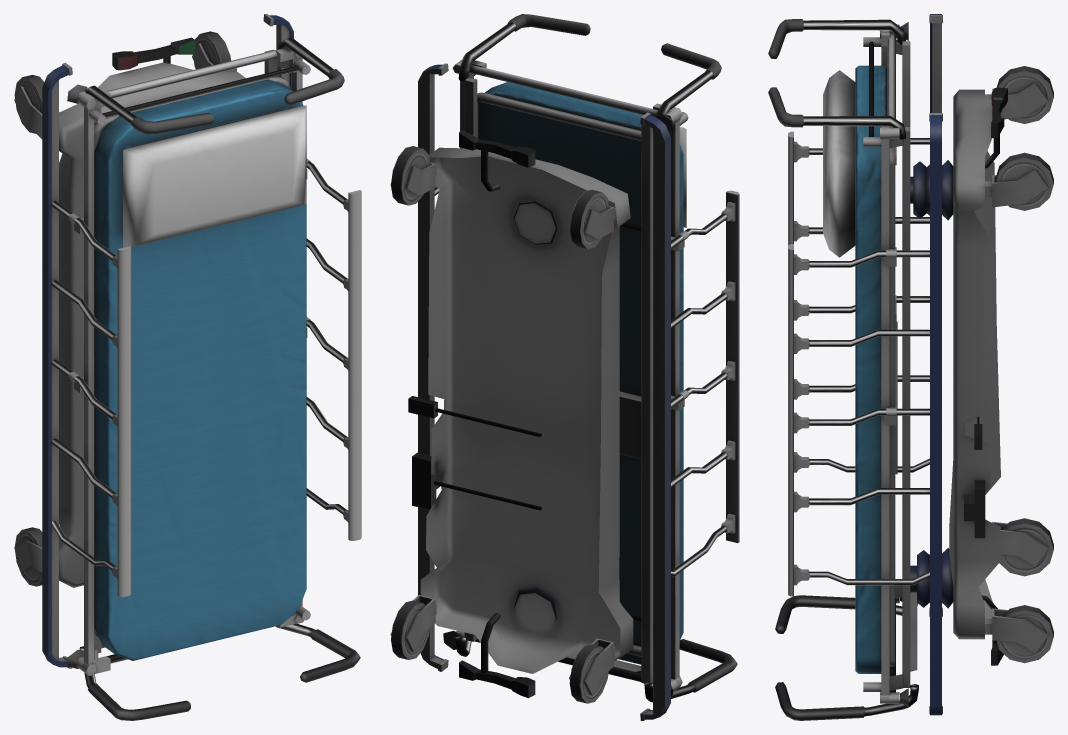
The model's file is TrolleyBed.obj.
The picture shows the model from 3 angles, left to right: view 1: azimuth 30°, elevation 25°; view 2: azimuth 150°, elevation 25°; view 3: azimuth 270°, elevation 25°; orthographic projection.
Parts seen in each view (by area): view 1: TrolleyBed.001; view 2: TrolleyBed.001; view 3: TrolleyBed.001.
Part boxes in pixels (bbox=[...]): TrolleyBed.001: bbox=[14, 14, 361, 720]; TrolleyBed.001: bbox=[390, 14, 739, 720]; TrolleyBed.001: bbox=[768, 14, 1053, 720].
Bounding box in the file's own units: 0.848 × 1.98 × 0.8544.
Materials: 1 (1 with a texture image).
